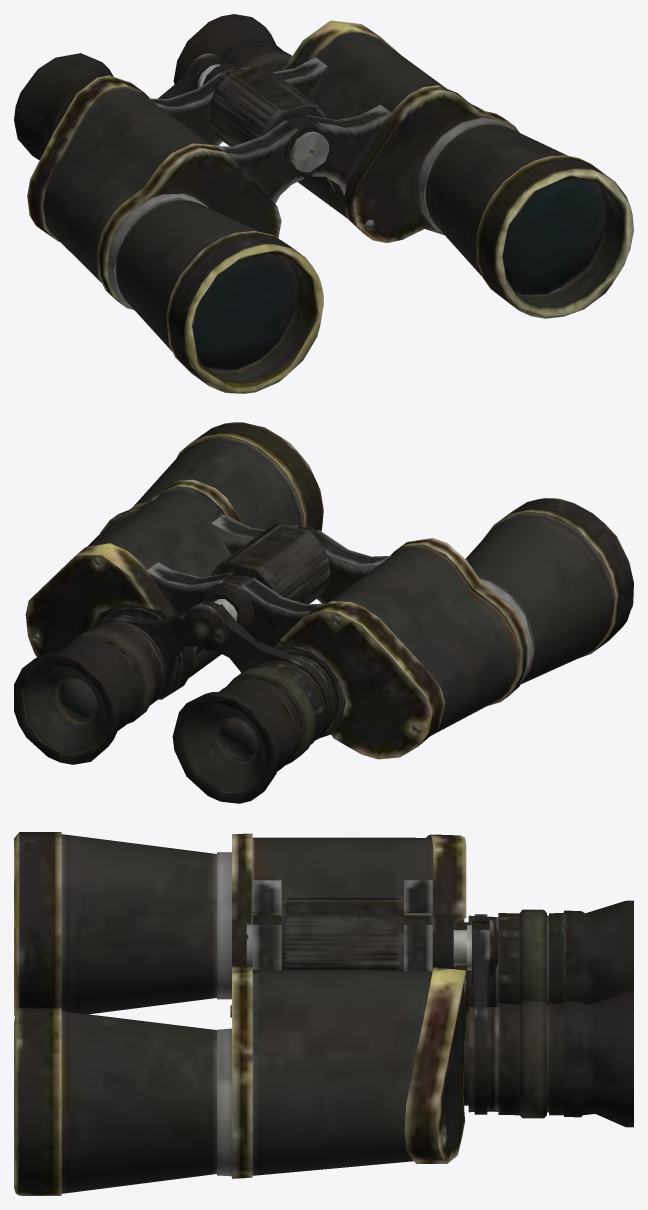
The model's file is binoculars.glb.
3 renders of one model, top to bottom at view 1: azimuth 30°, elevation 25°; view 2: azimuth 150°, elevation 25°; view 3: azimuth 270°, elevation 25°, orthographic. The views are drawn at different scales.
Visible parts, largest first — view 1: vintage_binocular_right_prism, vintage_binocular_left_prism, vintage_binocular_right_lens, vintage_binocular_focus, vintage_binocular_left_lens, vintage_binocular_middle; view 2: vintage_binocular_right_prism, vintage_binocular_left_prism, vintage_binocular_left_lens, vintage_binocular_right_lens, vintage_binocular_focus, vintage_binocular_diopter, vintage_binocular_eye_relief, vintage_binocular_middle; view 3: vintage_binocular_left_prism, vintage_binocular_right_prism, vintage_binocular_left_lens, vintage_binocular_right_lens, vintage_binocular_focus, vintage_binocular_diopter, vintage_binocular_middle, vintage_binocular_eye_relief.
Boxes of the visible parts, x1,y1,x2,y2 form: vintage_binocular_right_prism: [27, 72, 323, 393]; vintage_binocular_left_prism: [223, 20, 633, 318]; vintage_binocular_right_lens: [14, 53, 223, 159]; vintage_binocular_focus: [209, 67, 327, 146]; vintage_binocular_left_lens: [173, 14, 291, 84]; vintage_binocular_middle: [202, 63, 329, 172]; vintage_binocular_right_prism: [227, 498, 633, 759]; vintage_binocular_left_prism: [25, 422, 323, 699]; vintage_binocular_left_lens: [14, 600, 214, 764]; vintage_binocular_right_lens: [172, 601, 335, 803]; vintage_binocular_focus: [211, 524, 329, 604]; vintage_binocular_diopter: [227, 661, 323, 764]; vintage_binocular_eye_relief: [183, 599, 237, 650]; vintage_binocular_middle: [199, 582, 254, 630]; vintage_binocular_left_prism: [14, 915, 466, 1195]; vintage_binocular_right_prism: [14, 832, 466, 1017]; vintage_binocular_left_lens: [463, 923, 633, 1127]; vintage_binocular_right_lens: [456, 900, 633, 1012]; vintage_binocular_focus: [281, 898, 403, 970]; vintage_binocular_diopter: [498, 909, 546, 1003]; vintage_binocular_middle: [246, 914, 453, 970]; vintage_binocular_eye_relief: [453, 920, 498, 975].
Bounding box in the file's own units: 0.1938 × 0.0684 × 0.199.
Materials: 1 (1 with a texture image).
